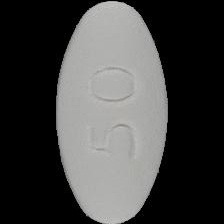55154-4626: (0, 0, 224, 224)
